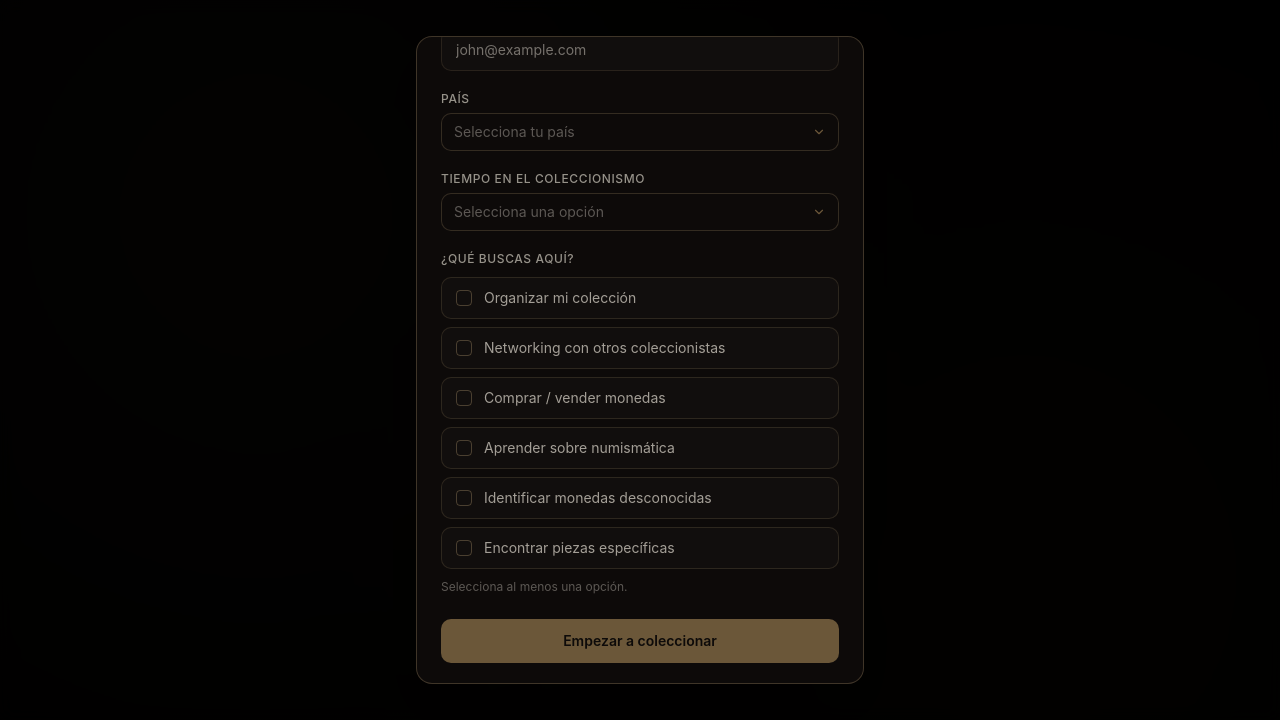
it: ProfileSetupModal › toggling a goal twice re-disables the submit button
(page scrolled)
Click the button "Aprender sobre numismática" at point(640, 448), box [441, 427, 839, 469]
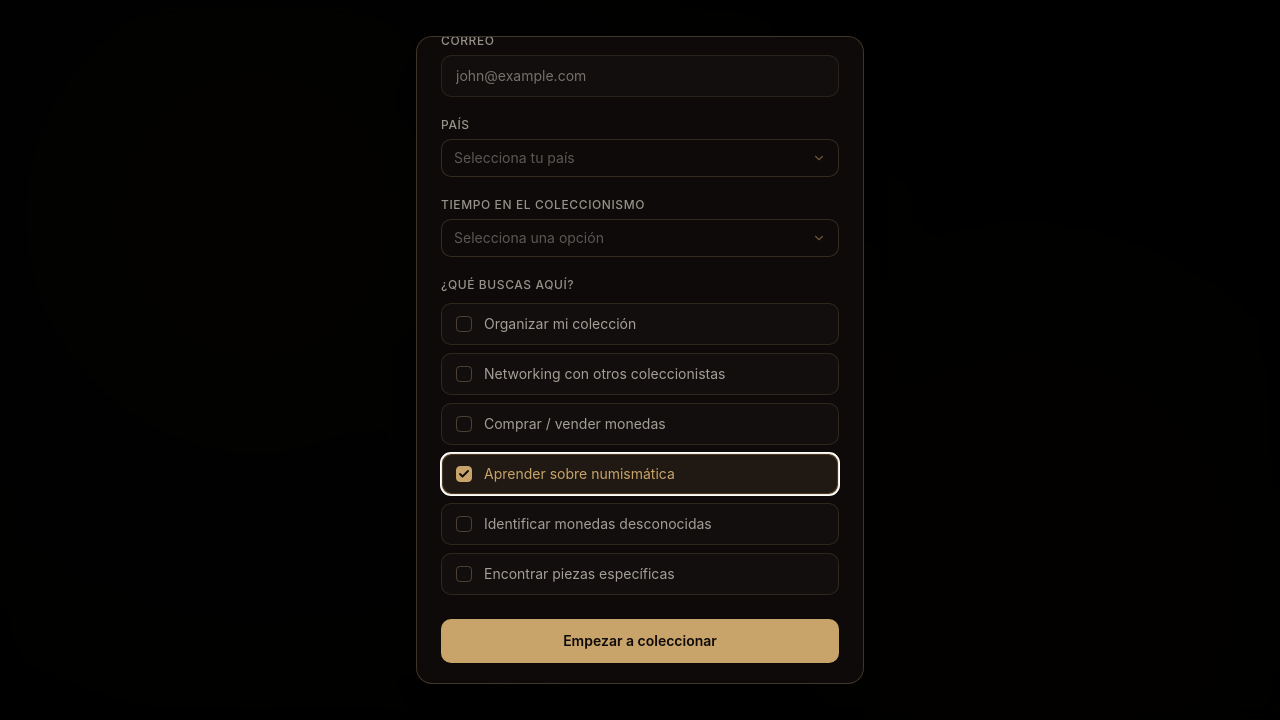
Click the button "Aprender sobre numismática" at point(640, 474), box [441, 453, 839, 495]
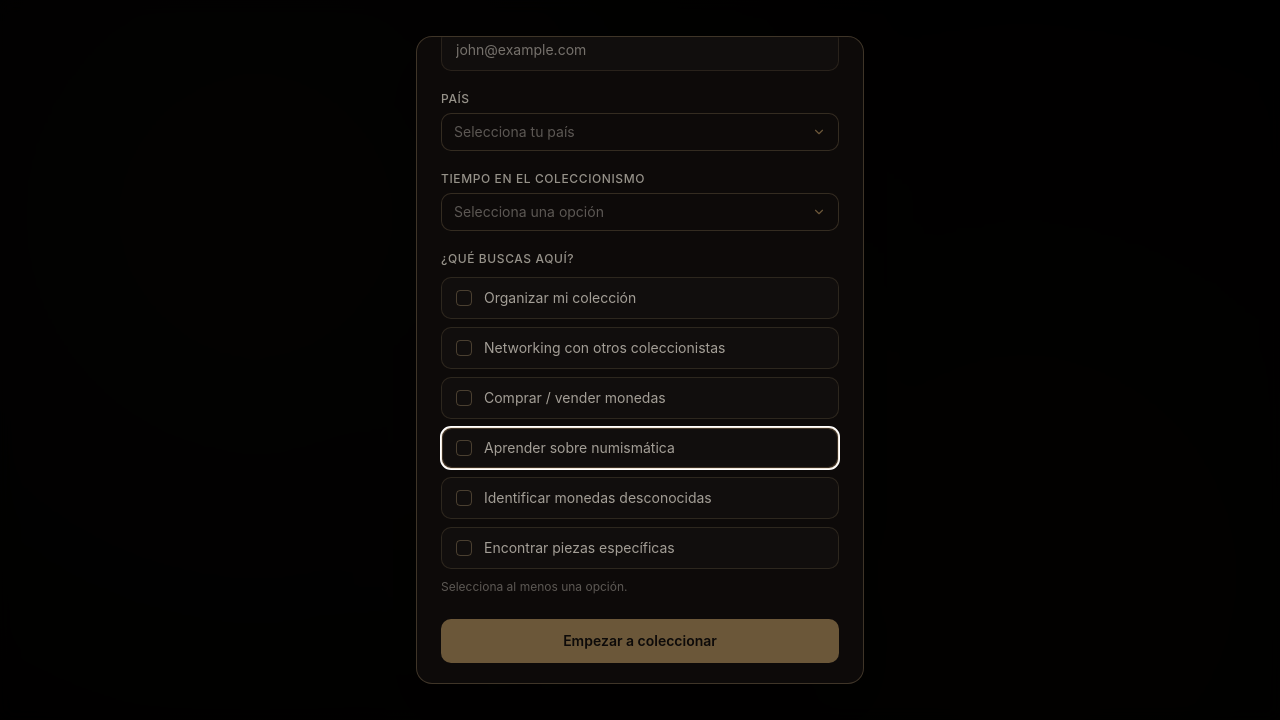
Expected: the button "Empezar a coleccionar" is disabled, [441, 619, 839, 663]
